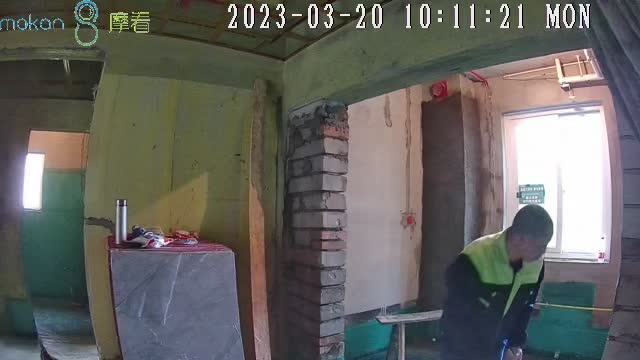people: (444, 203, 555, 360)
window: (501, 105, 609, 256)
